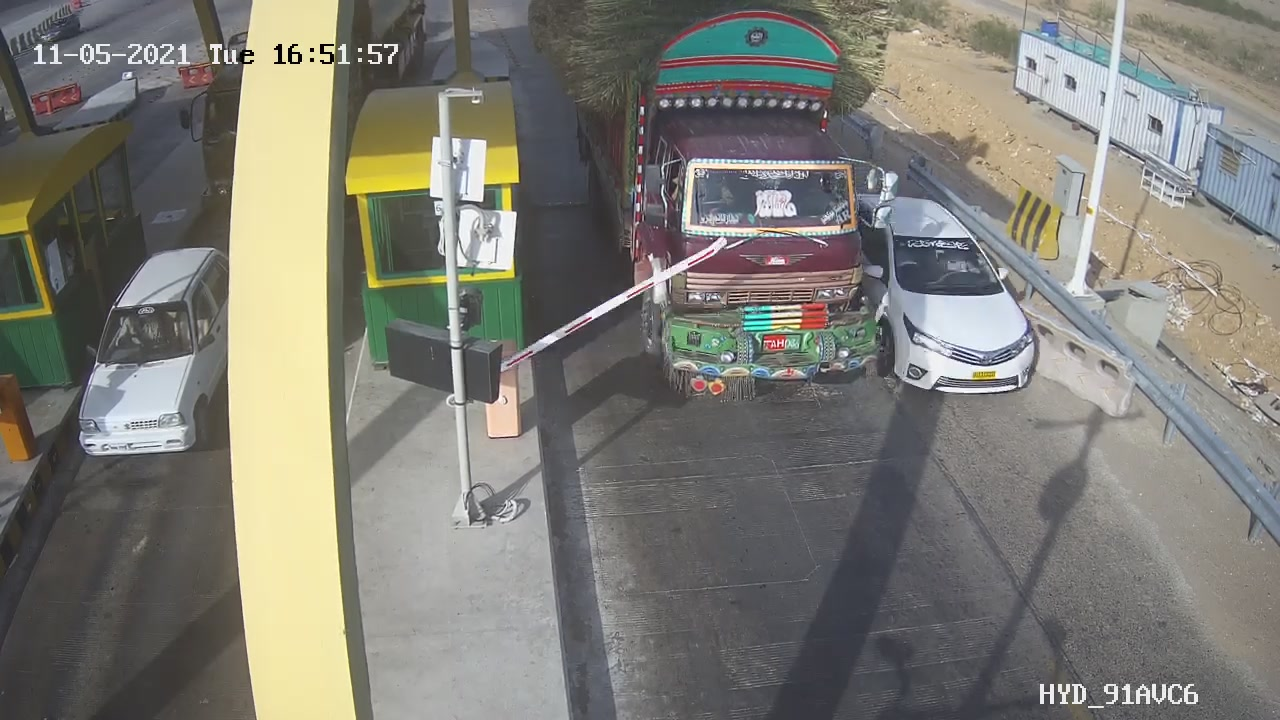F5: (544, 7, 920, 429)
